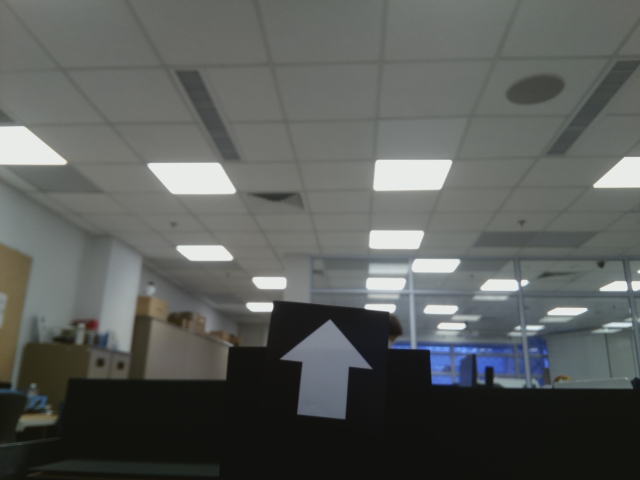up: (280, 309, 376, 430)
